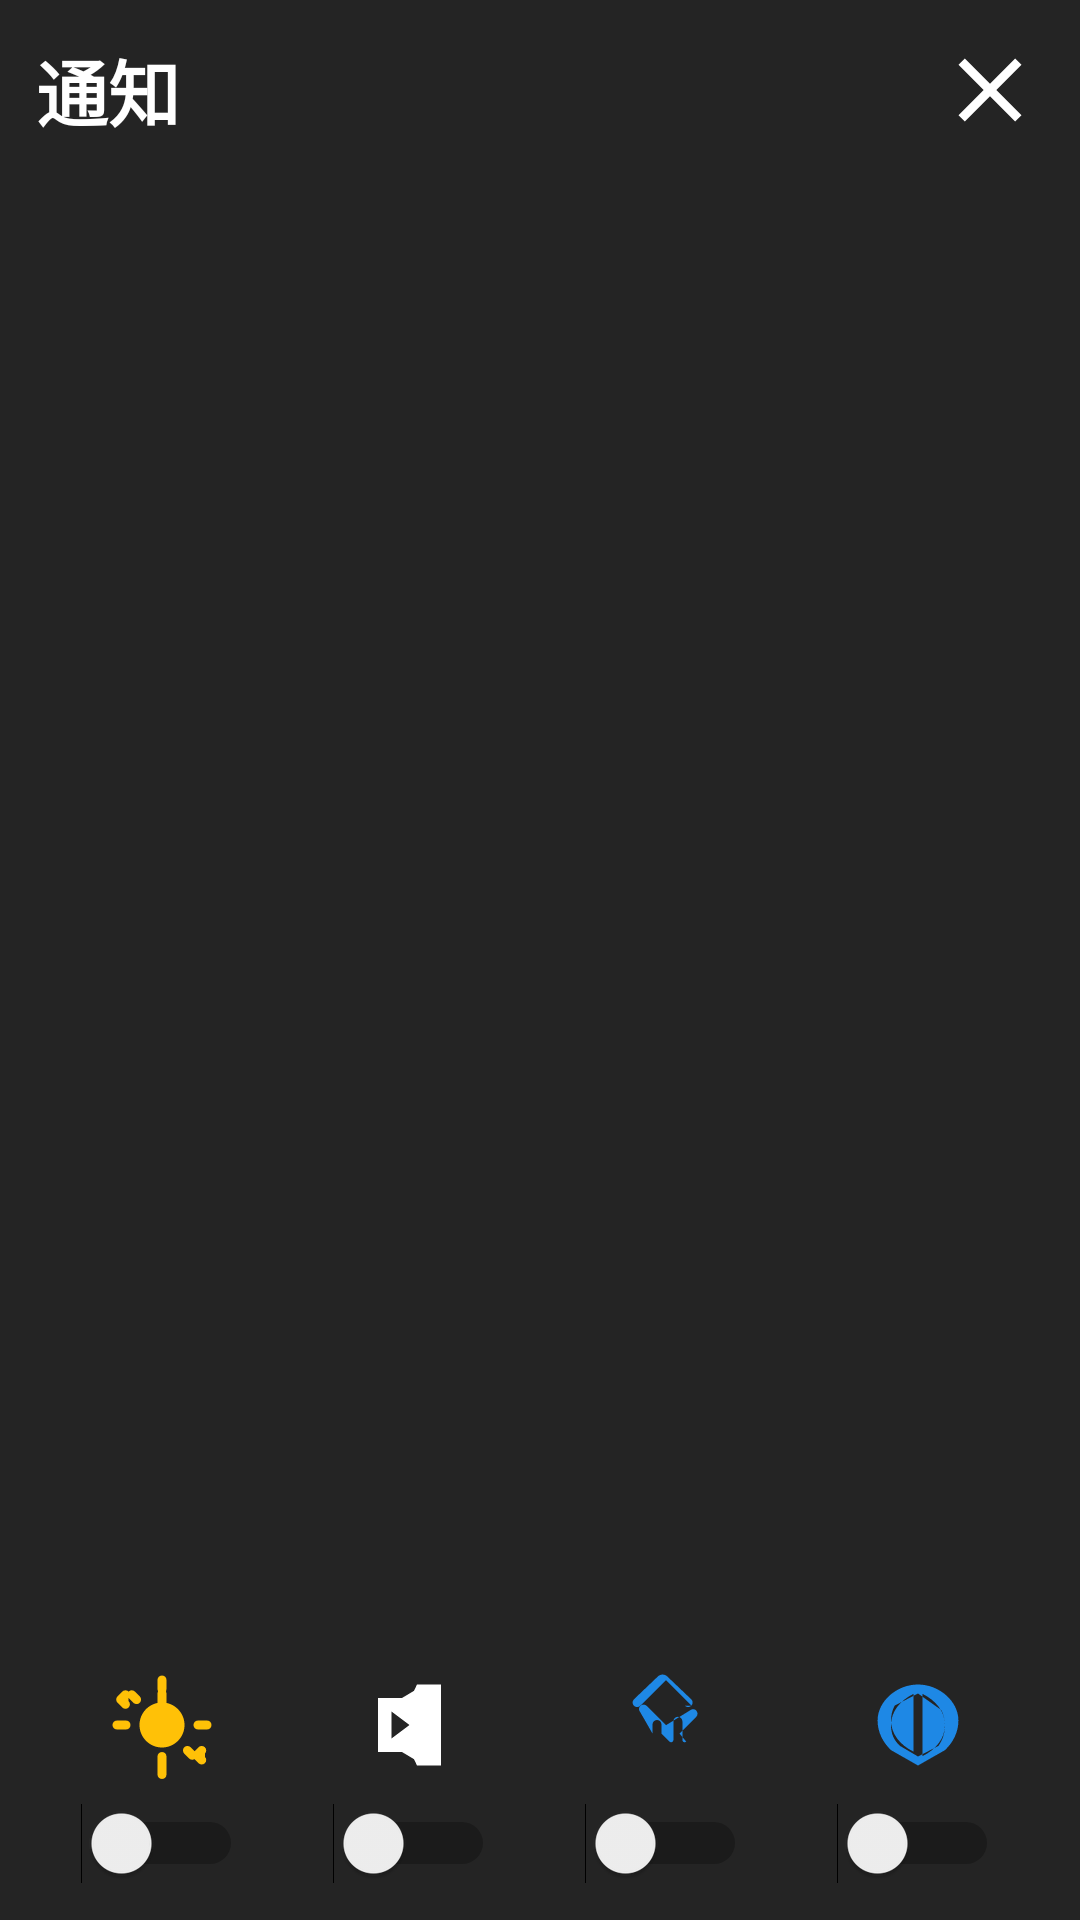

Locate icon controls on the screen. Image size 1080*1920, boxes as (x1, y1, x2, y2).
brightness: (112, 1675, 212, 1779)
volume: (378, 1684, 441, 1766)
关闭: (958, 58, 1022, 122)
